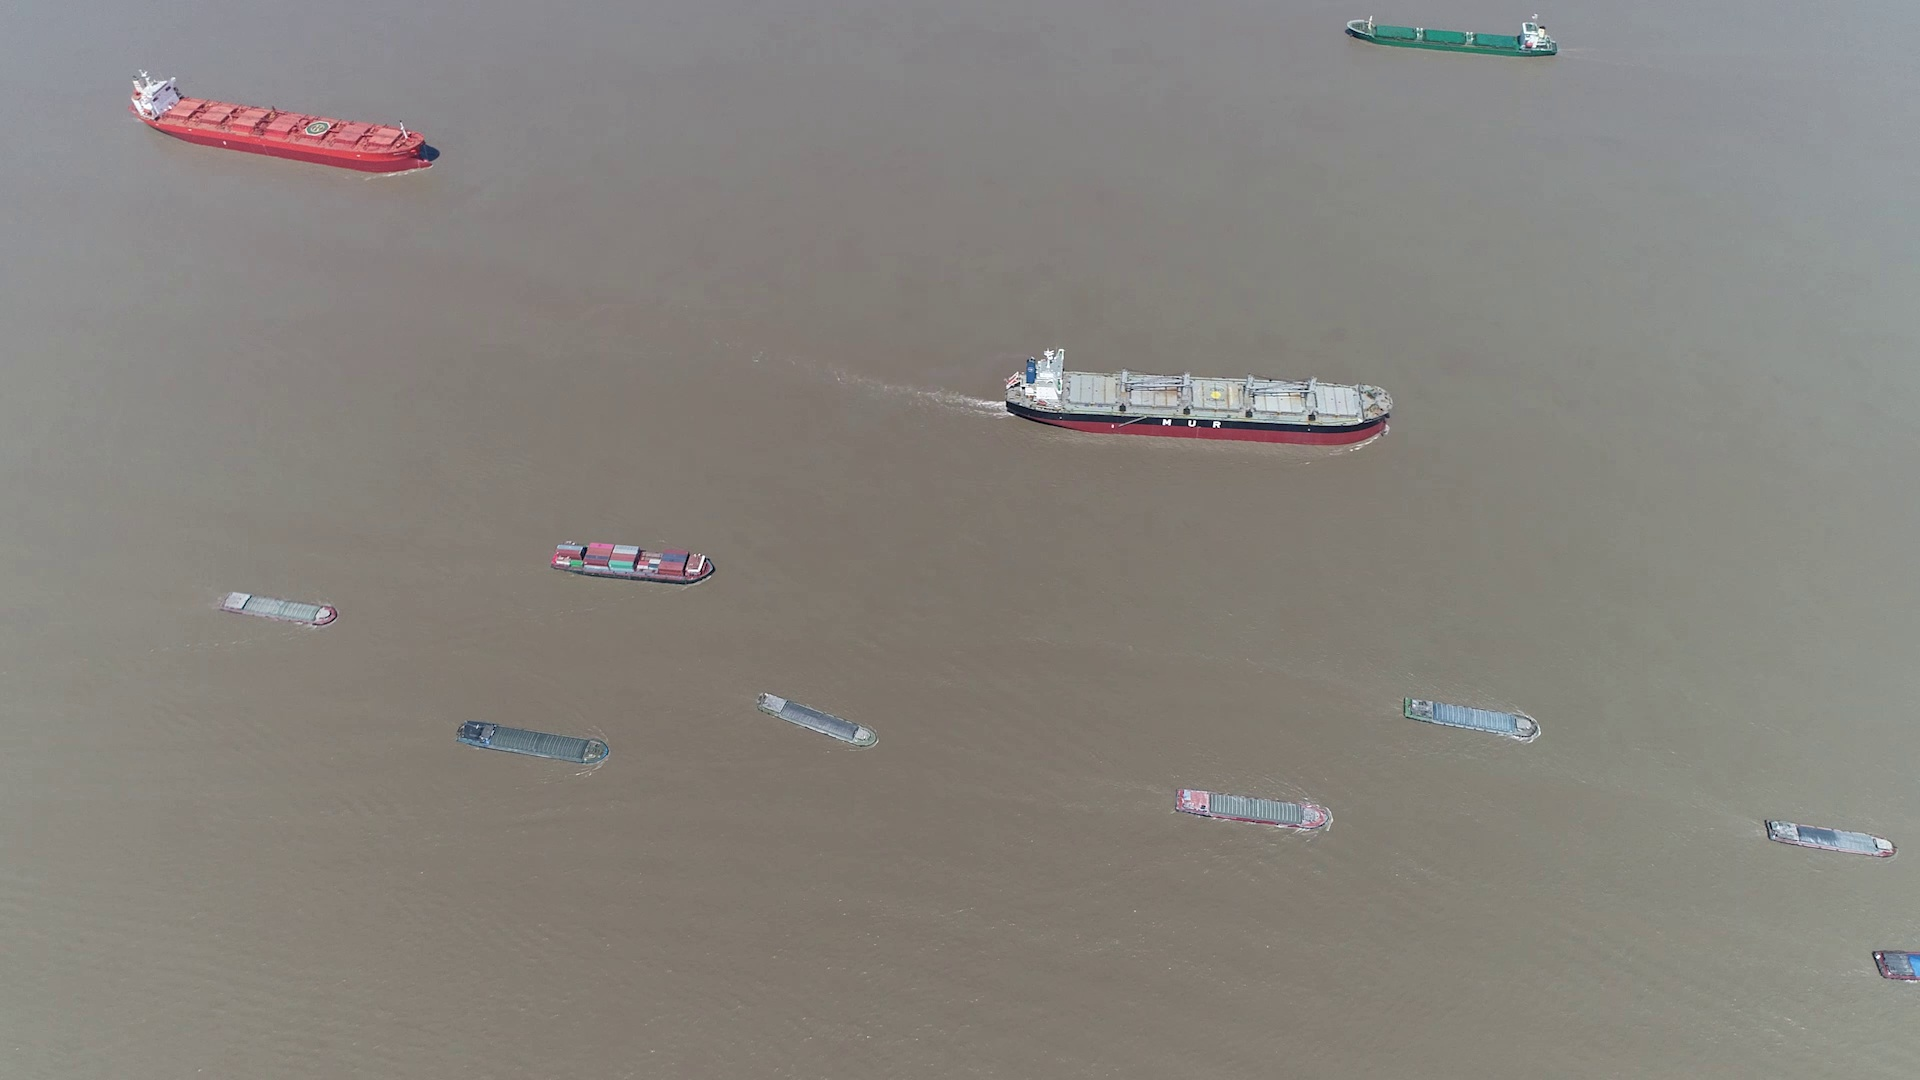ship: (1004, 351, 1389, 446), (135, 67, 436, 169), (1346, 16, 1556, 57), (551, 541, 716, 583), (462, 720, 611, 766), (1174, 790, 1333, 832), (760, 694, 880, 749), (1403, 698, 1542, 741), (1762, 819, 1898, 858), (220, 589, 339, 626), (1873, 949, 1919, 982)
